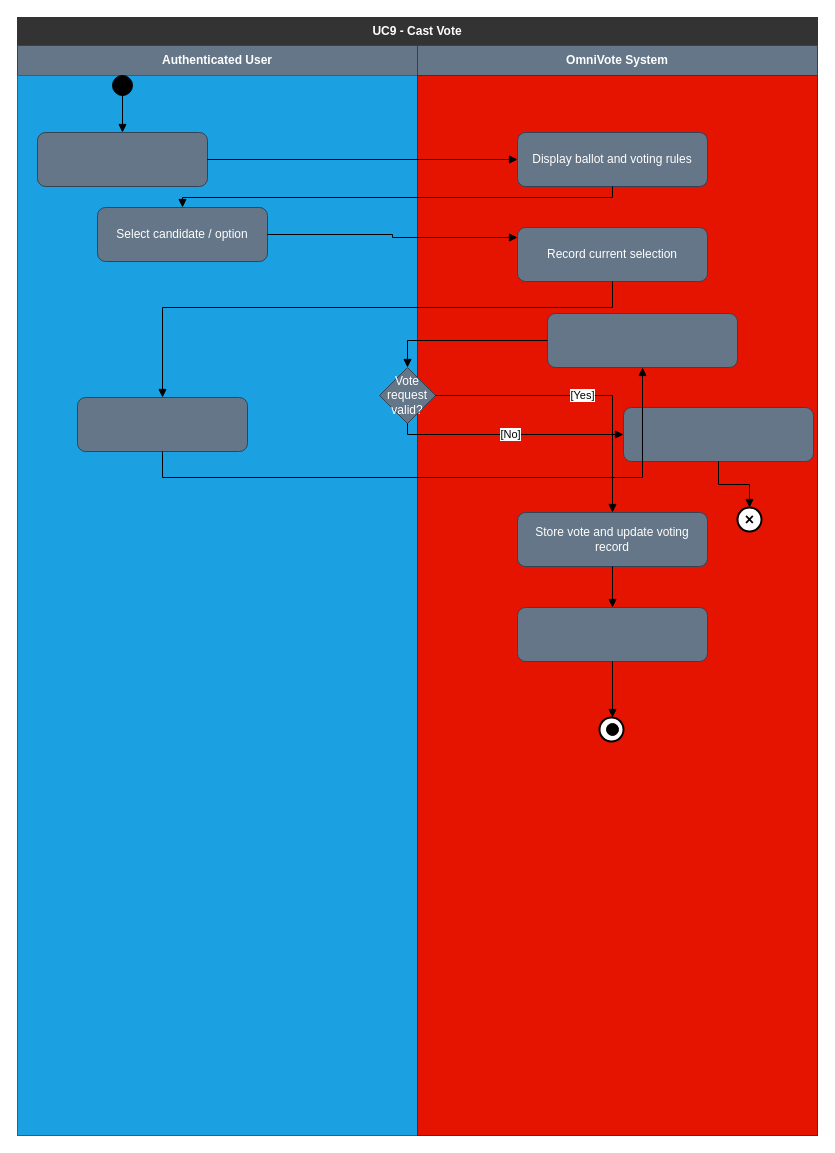
This 835x1153 diagram has some shape labels left out. Each missing label, with the box of its shape:
Open live election and choose vote: (36, 132, 208, 186)
Show reason vote cannot be completed: (622, 406, 814, 462)
Show successful vote confirmation: (516, 606, 708, 662)
Submit vote: (76, 396, 248, 452)
Validate session, eligibility, status, duplicate rule: (546, 312, 738, 368)
